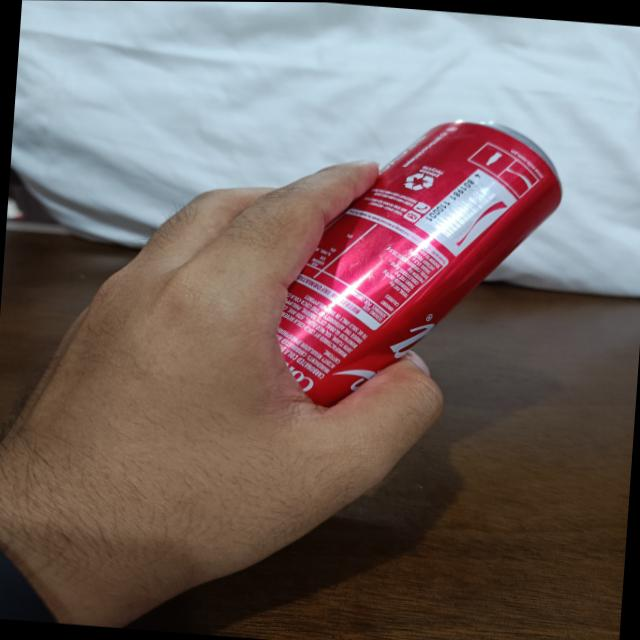coke: (206, 100, 566, 433)
